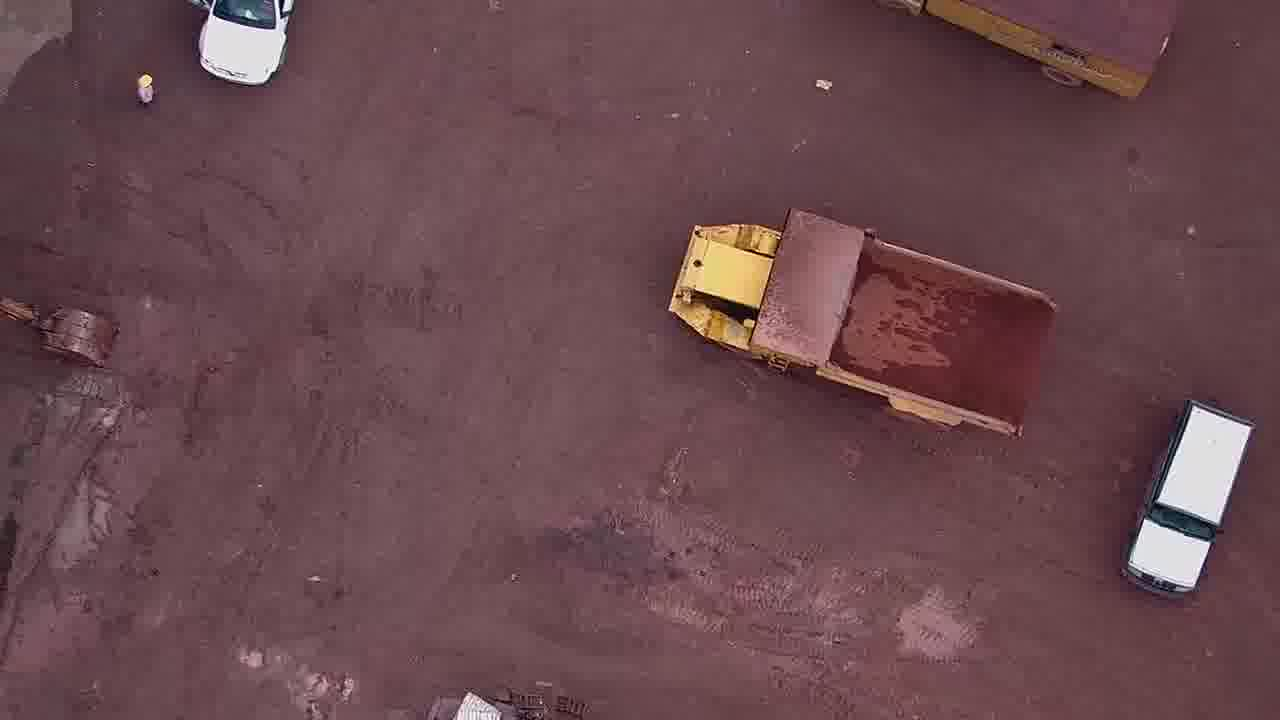heavy_motor_vehicle: (664, 204, 1060, 439)
light_motor_vehicle: (1118, 396, 1256, 601)
person: (133, 72, 158, 112)
